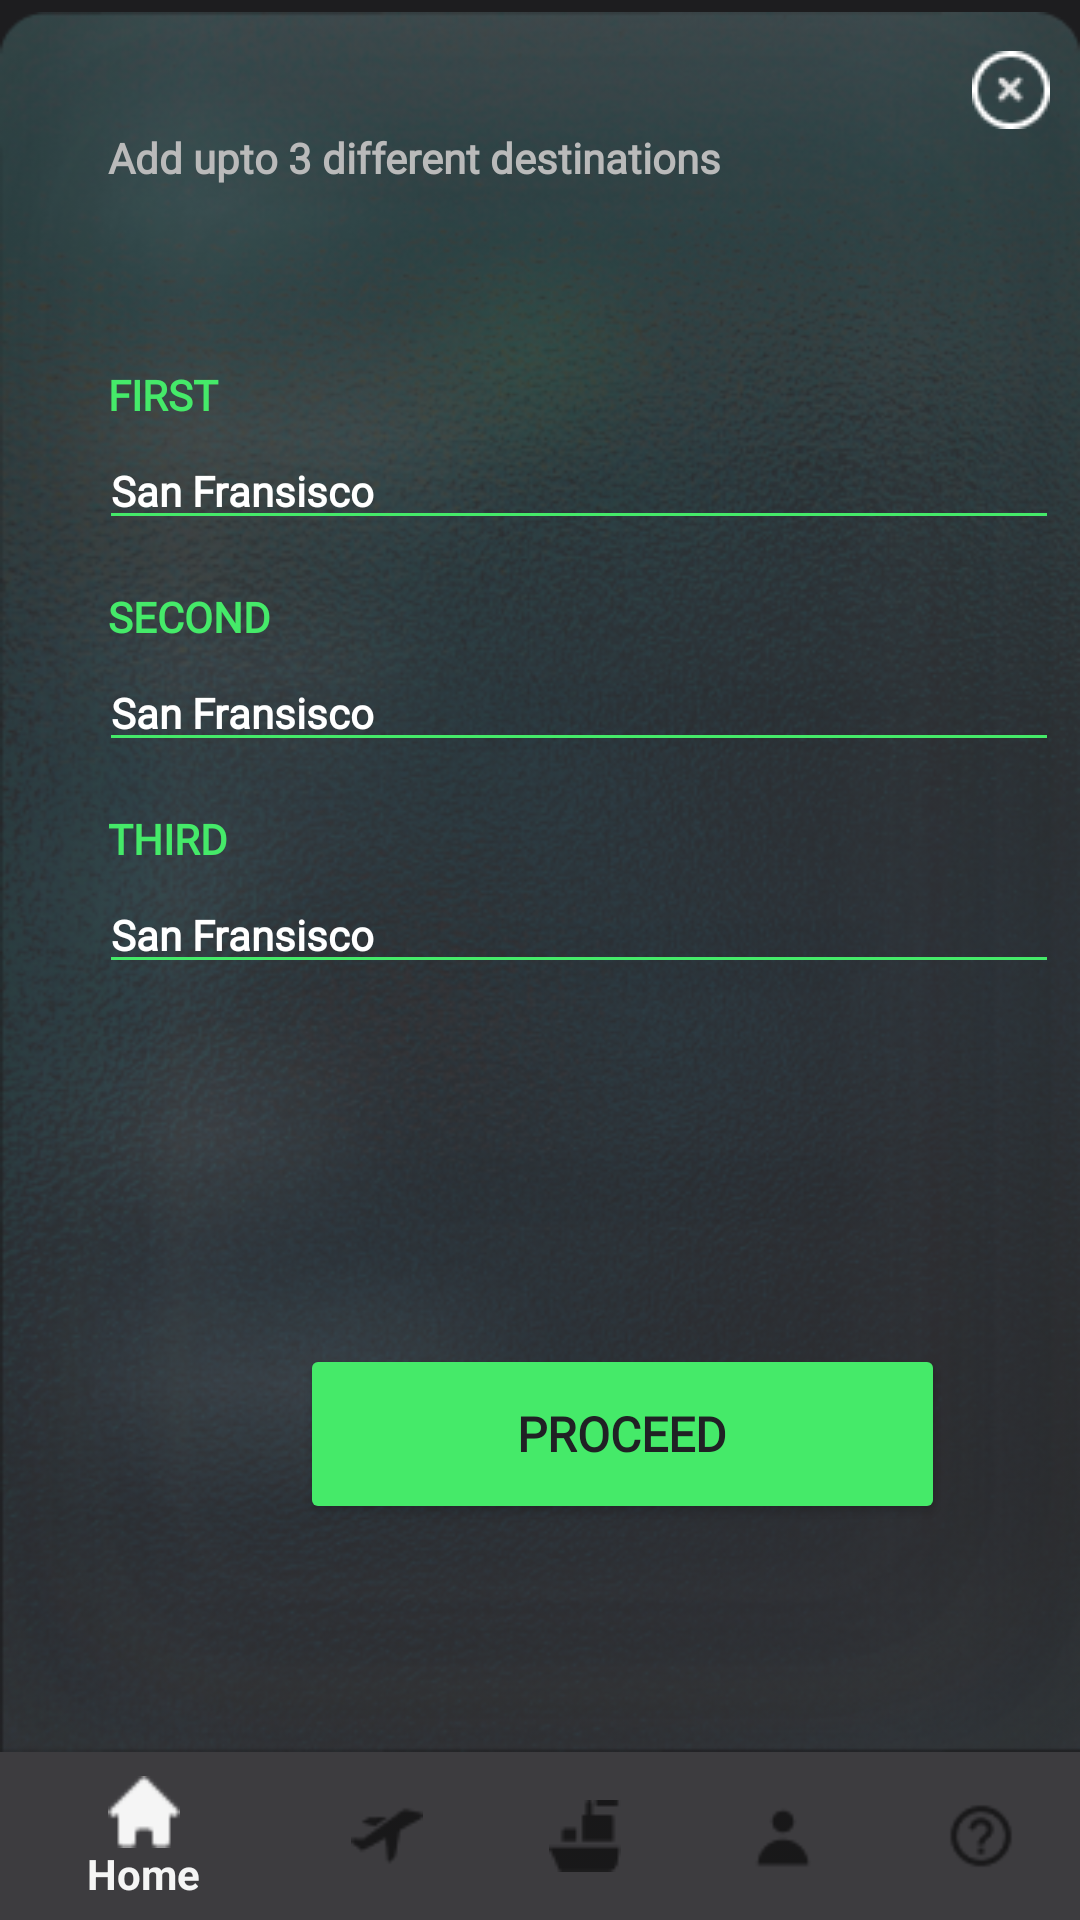

Point at icon controls on the screen. Image size 1080x1920, points as point (x, y).
cancel: point (1011, 90)
